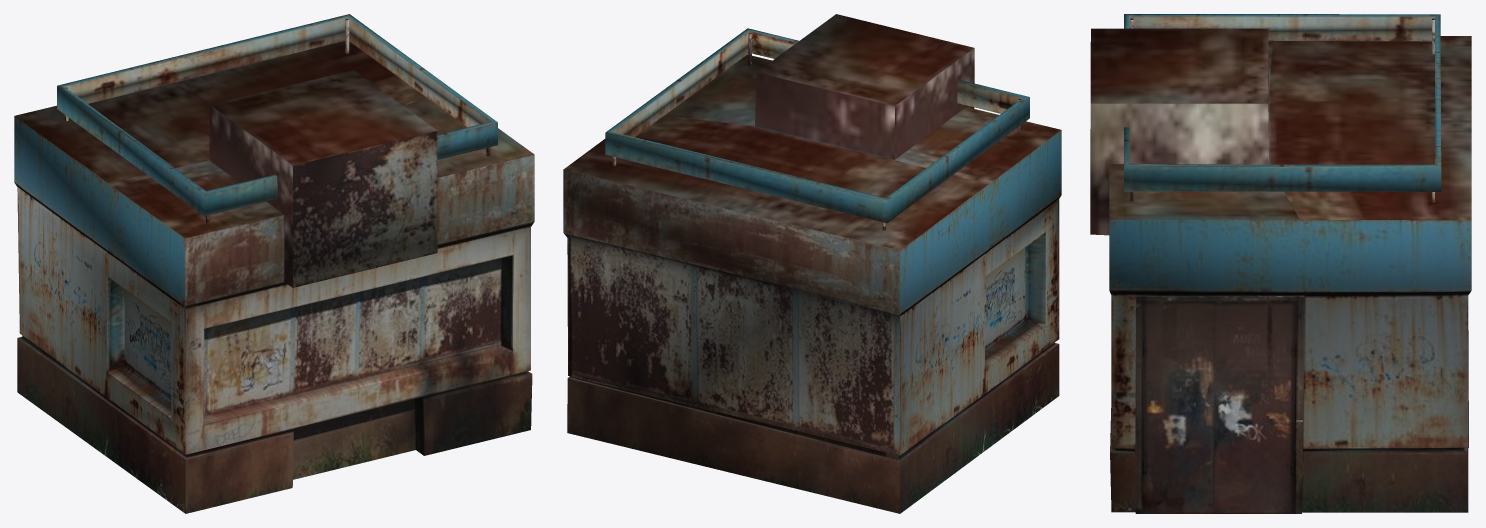
File: kiosk_rusty.glb
3 views of the same model, side by side, from view 1: azimuth 30°, elevation 25°; view 2: azimuth 150°, elevation 25°; view 3: azimuth 270°, elevation 25° (orthographic). The views are drawn at different scales.
Parts seen in each view (by area): view 1: kiosk_rusty; view 2: kiosk_rusty; view 3: kiosk_rusty.
Part boxes in pixels (x1=…): kiosk_rusty: x1=14, y1=14, x2=534, y2=513; kiosk_rusty: x1=563, y1=14, x2=1061, y2=513; kiosk_rusty: x1=1090, y1=14, x2=1471, y2=513.
Bounding box in the file's own units: 3.01 × 2.72 × 2.65.
1 material, 1 textured.
